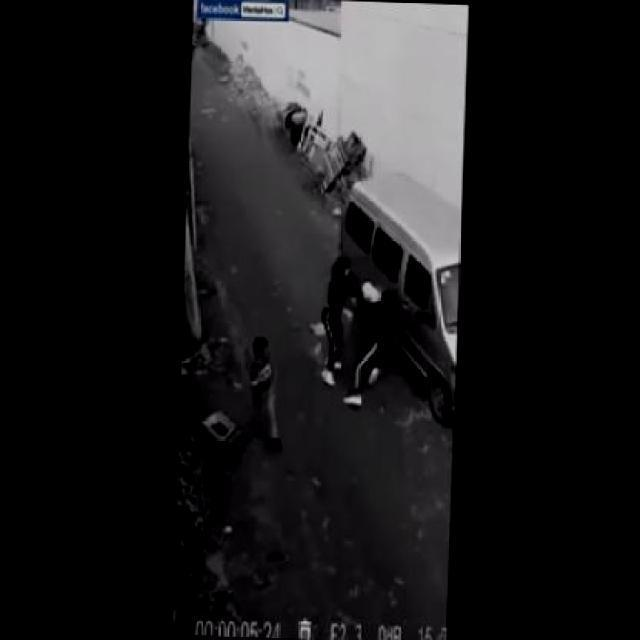fight: (321, 253, 396, 404)
non-fight: (246, 334, 285, 448)
